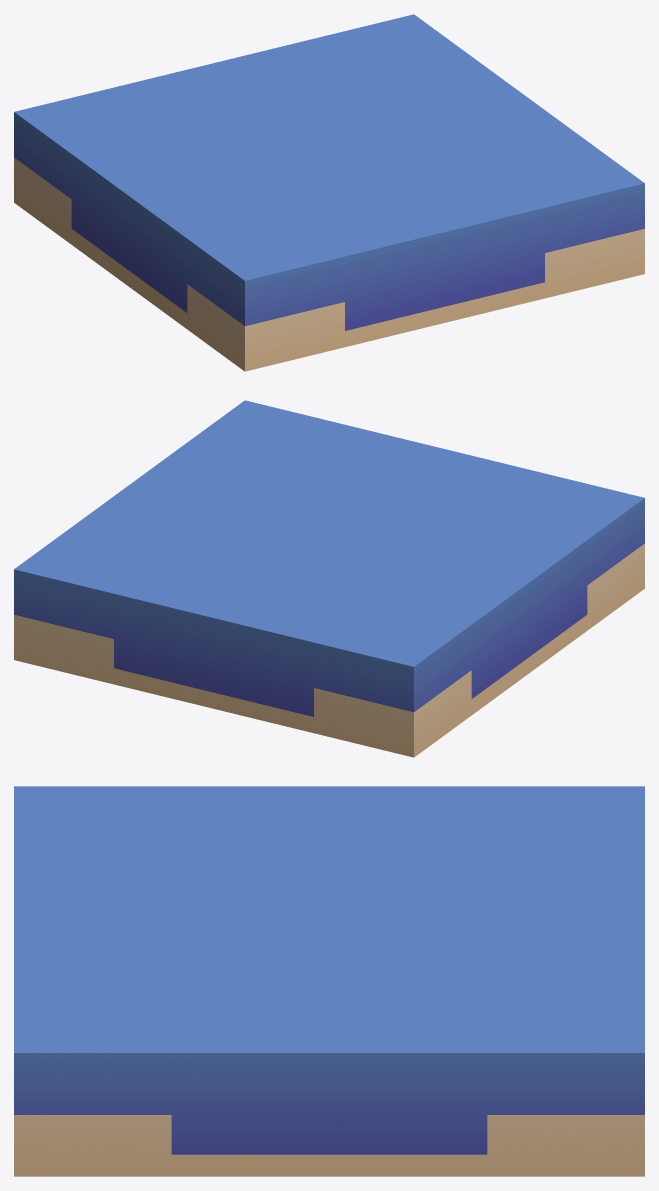
Rendered from tower-kc-tower-square-mid-color.glb.
The picture shows the model from 3 angles, top to bottom: view 1: azimuth 30°, elevation 25°; view 2: azimuth 150°, elevation 25°; view 3: azimuth 270°, elevation 25°; orthographic projection. The views are drawn at different scales.
Parts seen in each view (by area): view 1: tower-square-mid-color; view 2: tower-square-mid-color; view 3: tower-square-mid-color.
Boxes of the visible parts, x1,y1,x2,y2 form: tower-square-mid-color: [14, 14, 644, 371]; tower-square-mid-color: [14, 400, 644, 757]; tower-square-mid-color: [14, 786, 644, 1176].
Bounding box in the file's own units: 3.72 × 0.8064 × 3.72.
1 material, 1 textured.
